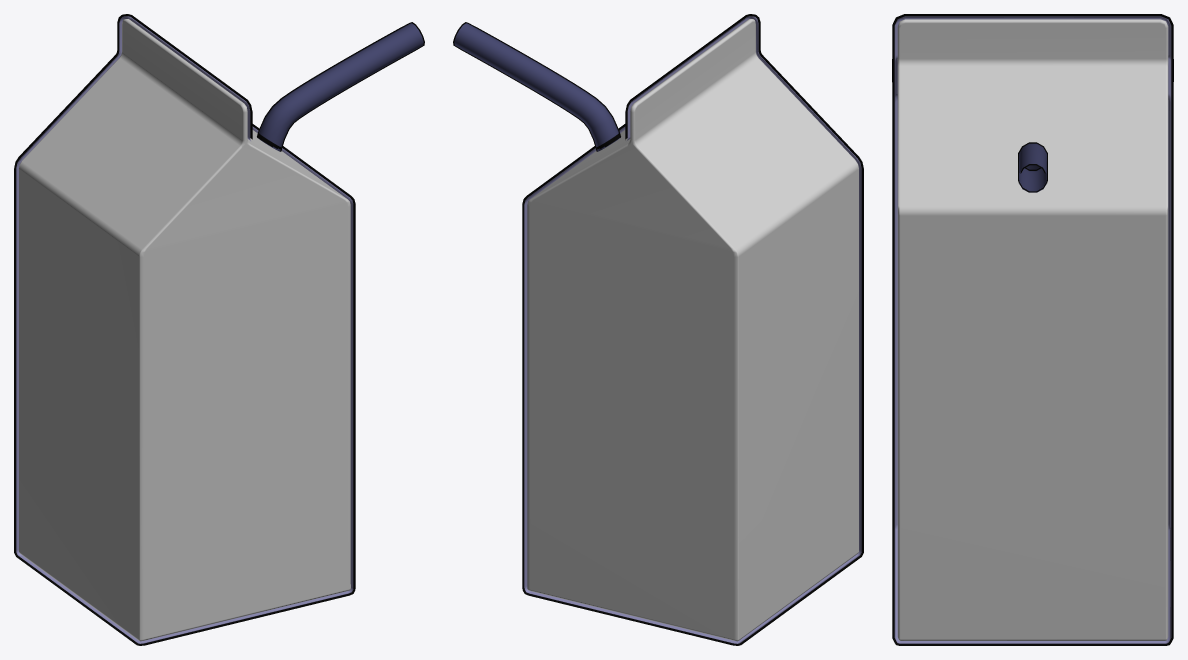
3 views of the same model, side by side, from view 1: azimuth 30°, elevation 25°; view 2: azimuth 150°, elevation 25°; view 3: azimuth 270°, elevation 25° (orthographic). The views are drawn at different scales.
Parts seen in each view (by area): view 1: blue_milk3, blue_milk1, tube, bleack_milk, tube3; view 2: blue_milk3, blue_milk1, tube, bleack_milk, tube3; view 3: blue_milk3, blue_milk1, bleack_milk, tube.
Boxes of the visible parts, <box> form: blue_milk3: <box>19,19,350,641</box>; blue_milk1: <box>16,16,353,643</box>; tube: <box>258,23,423,151</box>; bleack_milk: <box>14,14,355,645</box>; tube3: <box>257,22,424,151</box>; blue_milk3: <box>527,19,858,641</box>; blue_milk1: <box>524,16,861,643</box>; tube: <box>454,23,619,151</box>; bleack_milk: <box>522,14,863,645</box>; tube3: <box>453,22,620,151</box>; blue_milk3: <box>897,19,1168,640</box>; blue_milk1: <box>894,16,1171,643</box>; bleack_milk: <box>892,14,1173,645</box>; tube: <box>1019,143,1046,192</box>.
Bounding box in the file's own units: 3.43 × 4.92 × 2.19.
